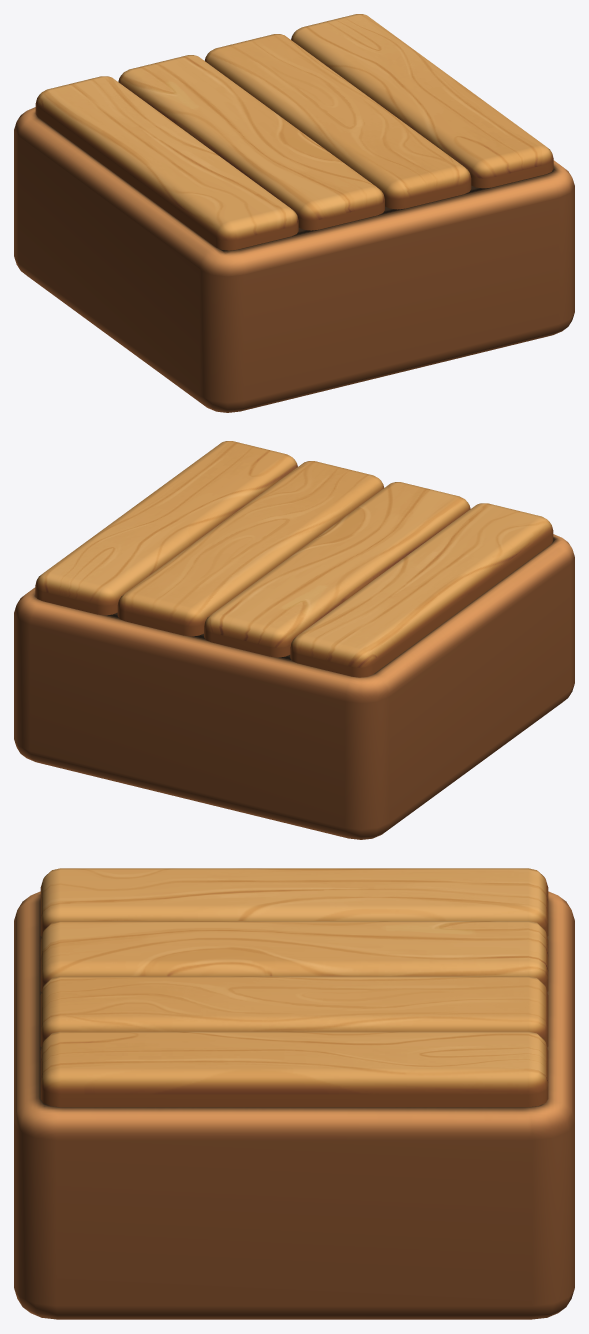
Rendered from WoodenBox_2x2.fbx.
3 views of the same model, one above another, from view 1: azimuth 30°, elevation 25°; view 2: azimuth 150°, elevation 25°; view 3: azimuth 270°, elevation 25° (orthographic). The views are drawn at different scales.
Parts seen in each view (by area): view 1: box2x2; view 2: box2x2; view 3: box2x2.
Part boxes in pixels (<box>): box2x2: <box>14,14,574,412</box>; box2x2: <box>14,441,574,839</box>; box2x2: <box>14,868,574,1319</box>.
Bounding box in the file's own units: 2.04 × 0.9589 × 2.03.
